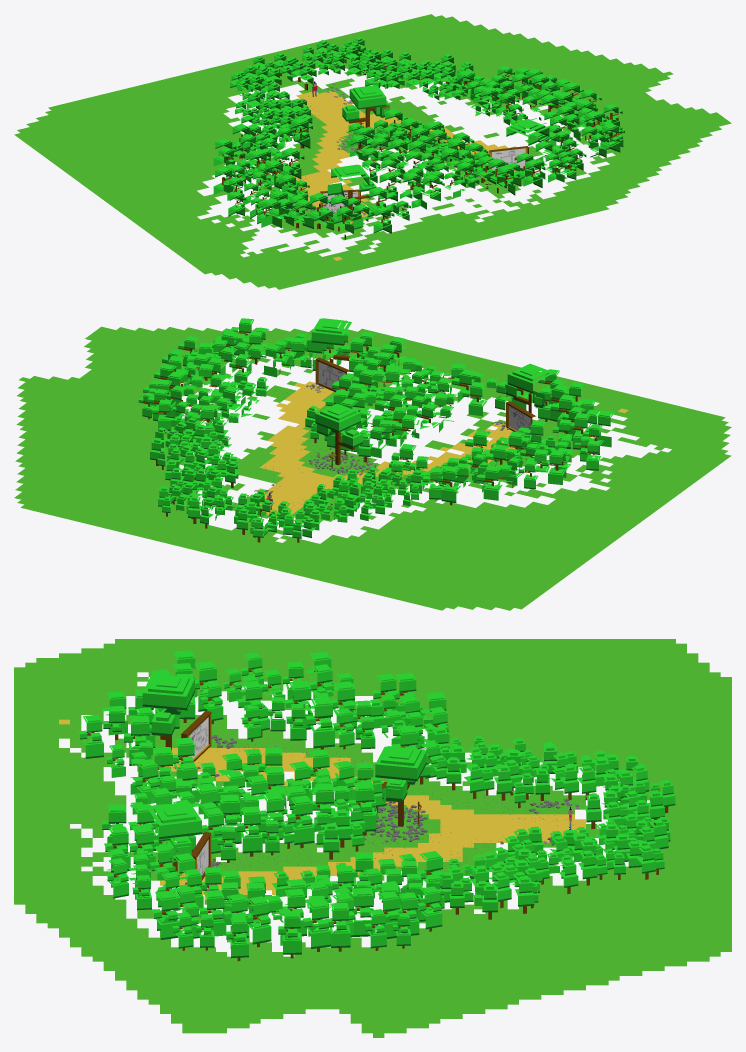
The model's file is crossy_road2.glb.
3 renders of one model, top to bottom at view 1: azimuth 30°, elevation 25°; view 2: azimuth 150°, elevation 25°; view 3: azimuth 270°, elevation 25°, orthographic. The views are drawn at different scales.
Parts seen in each view (by area): view 1: level.002, tree.009, big tree.003, big tree.001, project1; view 2: level.002, tree.009, big tree.003, big tree.001, project1, project2; view 3: level.002, big tree.003, tree.009, big tree.001, project2.
Part boxes in pixels (x1,y1,x2,y2): level.002: (14,14,731,289); tree.009: (342,85,389,137); big tree.003: (327,164,376,220); big tree.001: (506,118,549,169); project1: (489,146,528,171); level.002: (14,318,731,610); tree.009: (315,403,362,465); big tree.003: (505,363,554,413); big tree.001: (306,318,351,362); project1: (315,357,350,391); project2: (506,401,535,440); level.002: (14,639,731,1037); big tree.003: (142,674,194,750); tree.009: (375,746,426,826); big tree.001: (147,802,201,871); project2: (181,711,211,763).
Bounding box in the file's own units: 275 × 24.2 × 209.
Materials: 15 (2 with a texture image).
